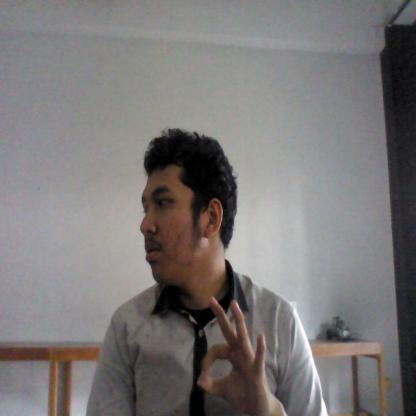O: (186, 292, 278, 414)
